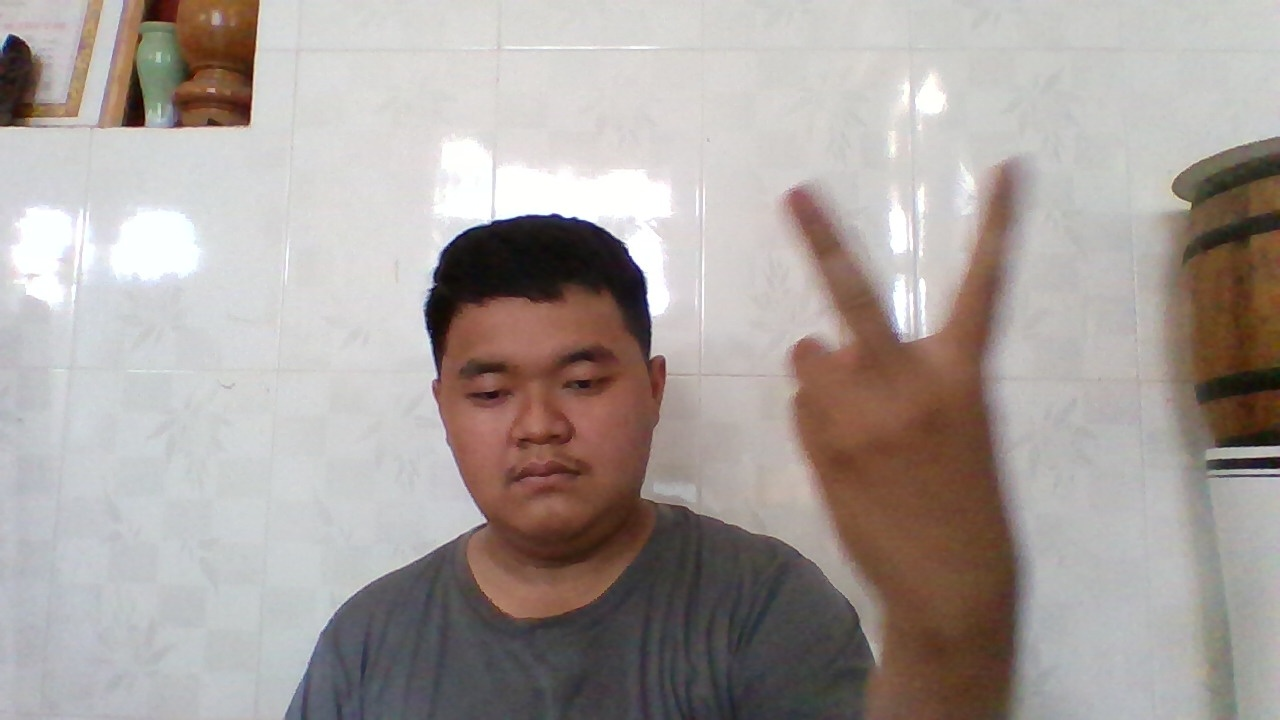V: (788, 163, 1026, 623)
